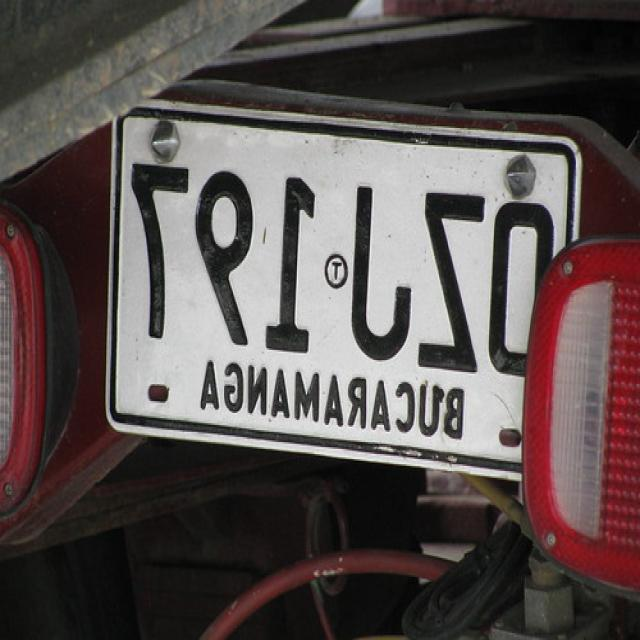placas: (120, 143, 571, 384)
